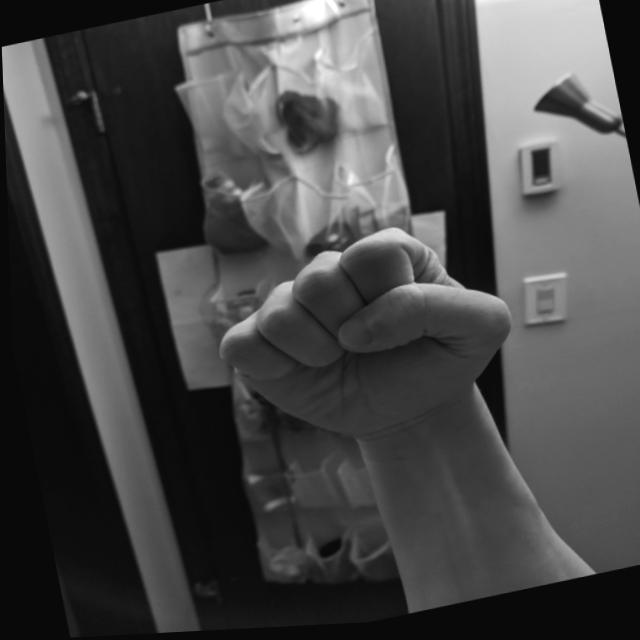S: (190, 203, 536, 479)
